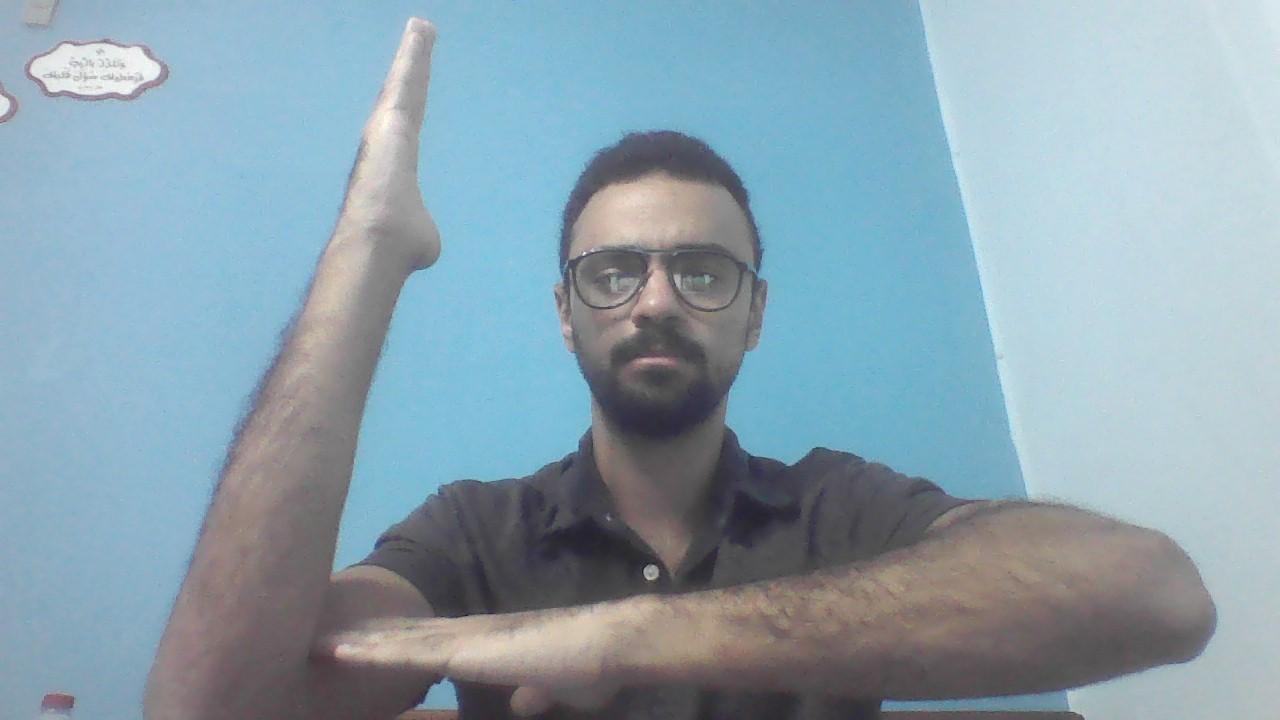morning: (142, 18, 1216, 704)
